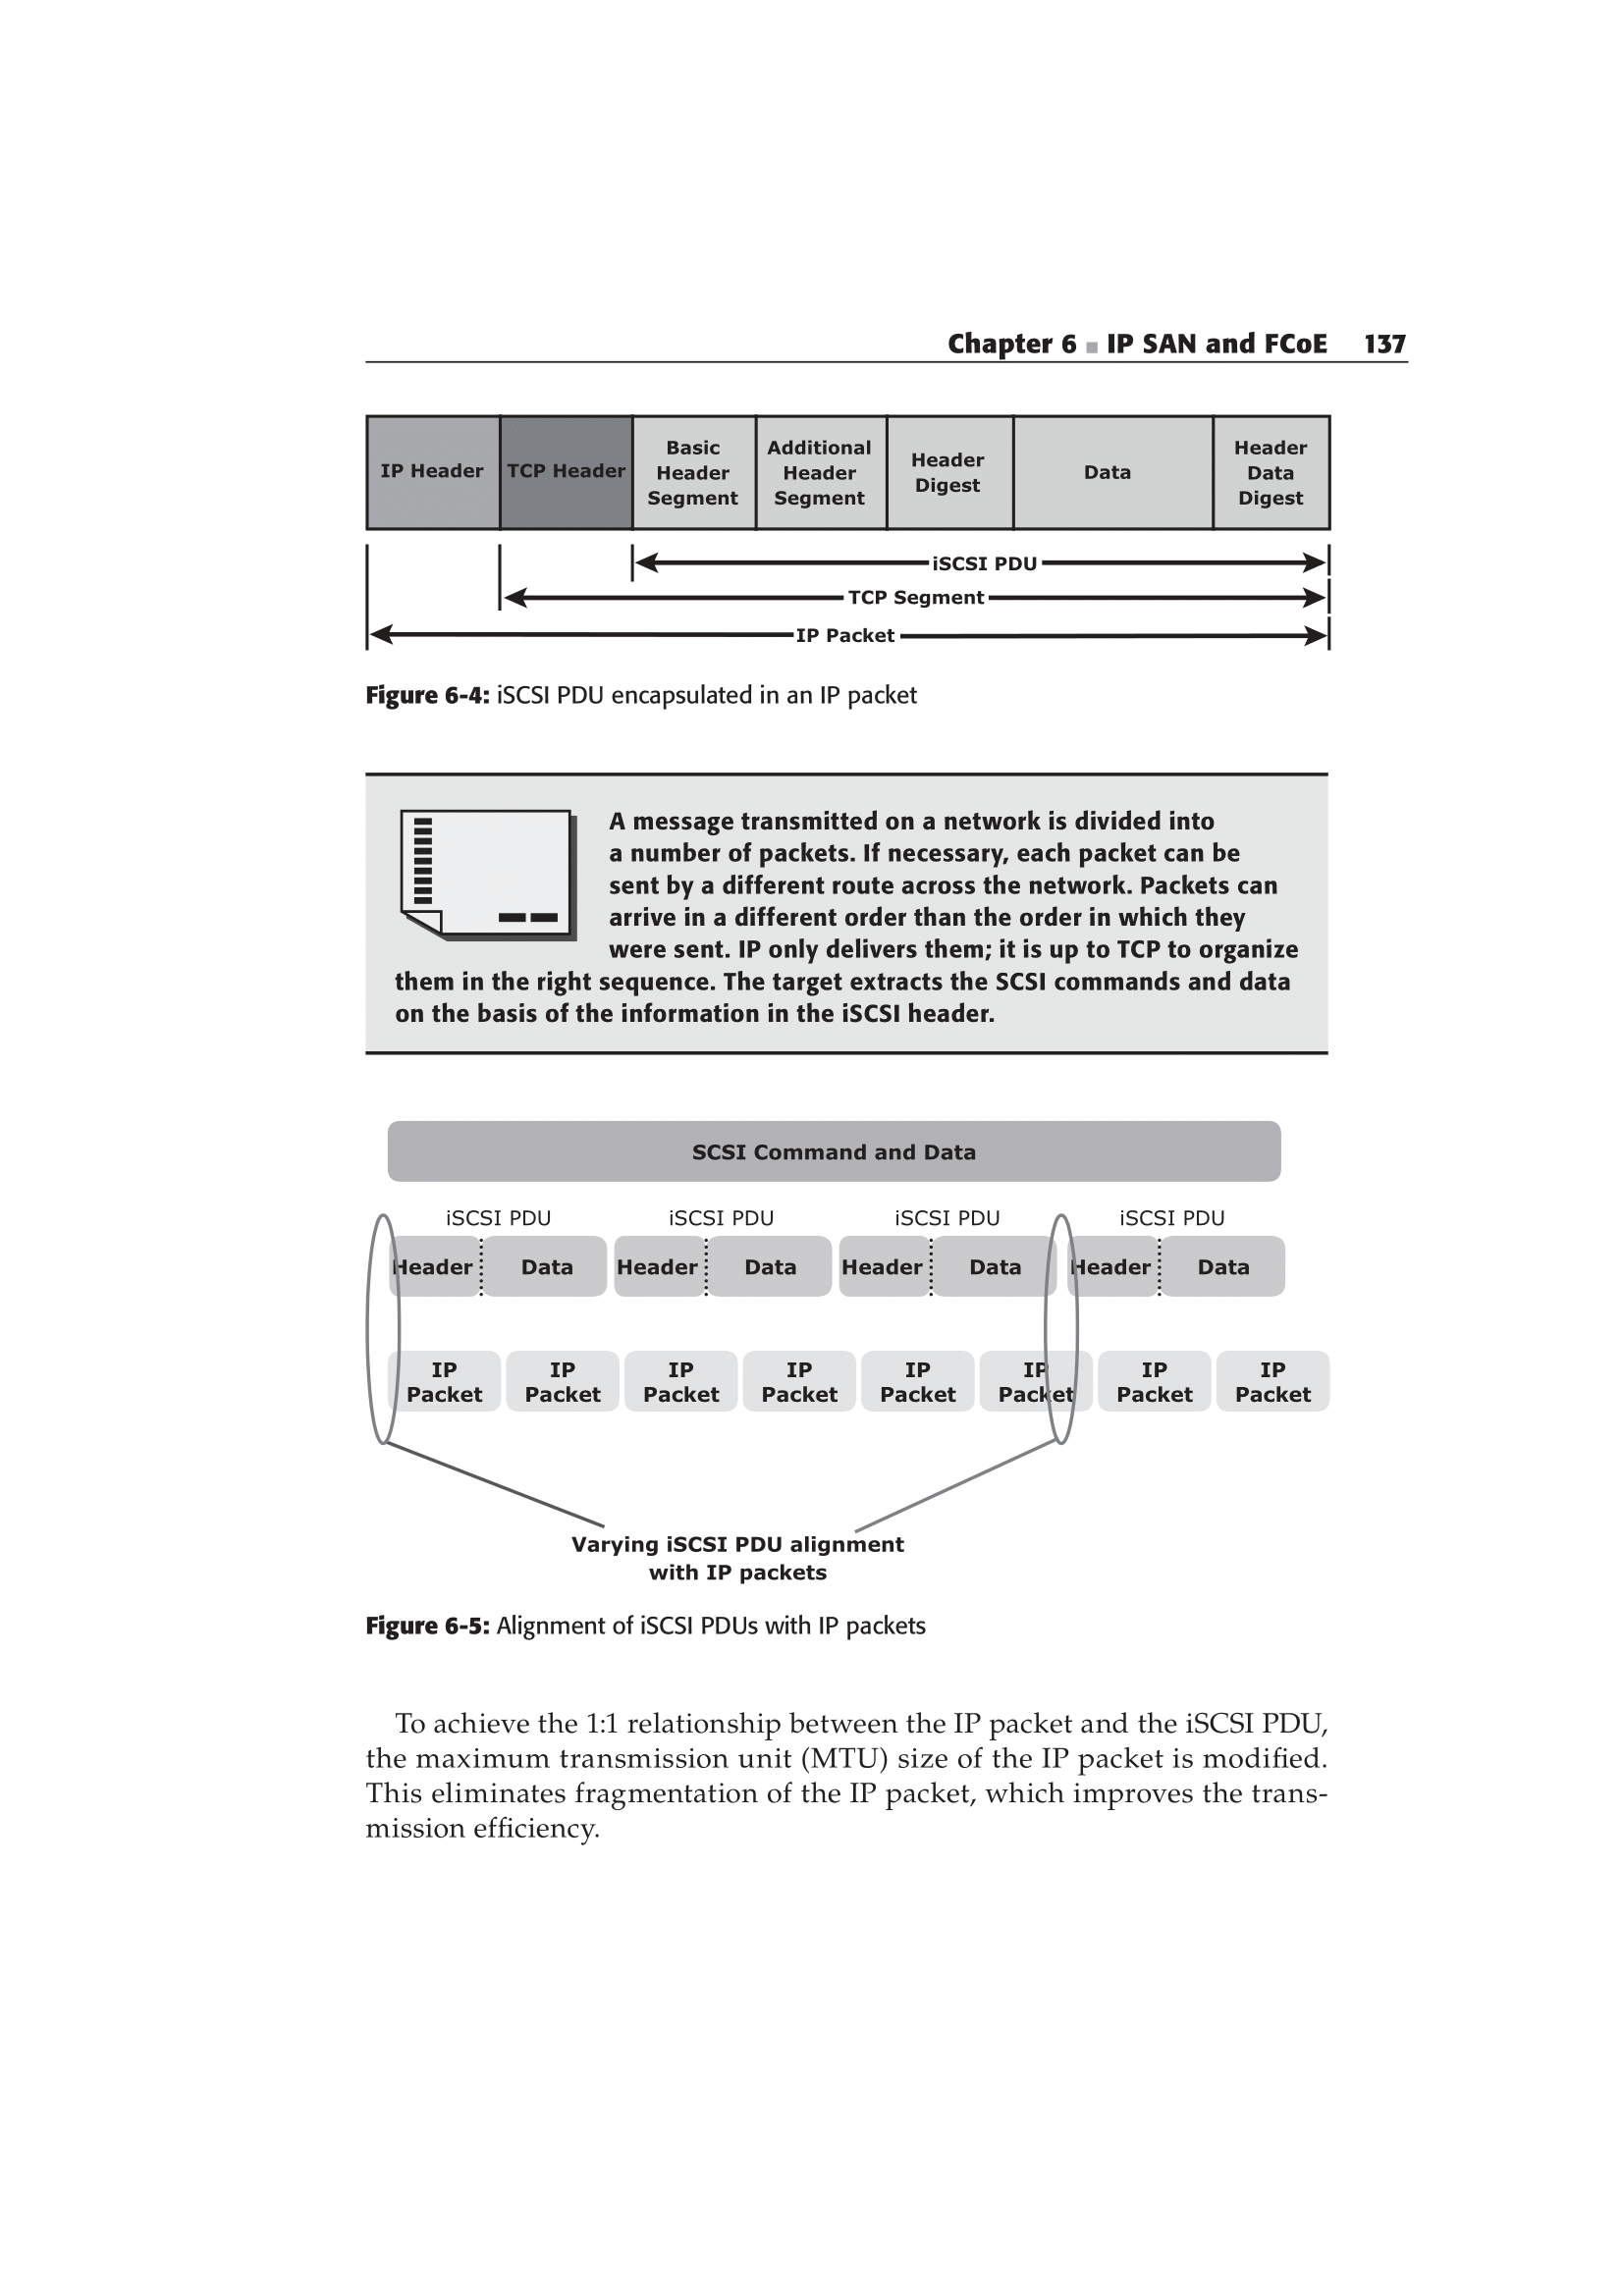Image: (343, 1104, 1374, 1594), (360, 388, 1356, 662), (393, 785, 576, 950)
Paragraph: (334, 1694, 1351, 1862), (588, 781, 1316, 967), (383, 953, 1305, 1041), (940, 291, 1439, 374), (343, 662, 963, 716), (357, 1603, 950, 1657)
